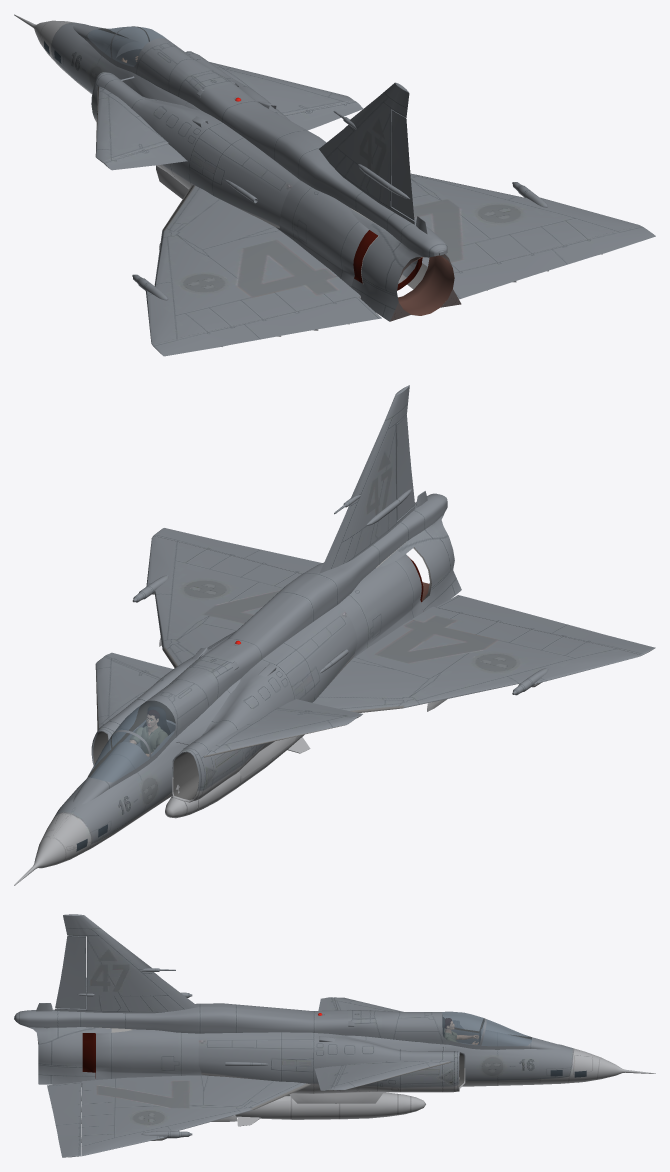
3 views of the same model, one above another, from view 1: azimuth 30°, elevation 25°; view 2: azimuth 150°, elevation 25°; view 3: azimuth 270°, elevation 25° (orthographic). The views are drawn at different scales.
Parts seen in each view (by area): view 1: Line53-FACES, Line___01-FACES (×2), Line51-FACES, Circle__06-FACES (×2), Circle___-FACES, Line36-FACES, RUL_BOL02-FACES, RUL_BOL1-FACES, Cylinder01-FACES, Line55-FACES, Line54-FACES, Cylinder02-FACES (+4 smaller); view 2: Line53-FACES, Line___01-FACES (×2), Circle__06-FACES, Circle___-FACES (×2), Line51-FACES, Line36-FACES, Object01-FACES, RUL_BOL02-FACES, Line55-FACES, Cylinder01-FACES, Line54-FACES, RUL_BOL1-FACES (+3 smaller); view 3: Line___01-FACES (×2), Circle__06-FACES (×2), Line51-FACES, Circle___-FACES, Line36-FACES, Capsule04-FACES, Cylinder01-FACES, Object01-FACES, RUL_BOL1-FACES, RUL_NAPR-FACES, Line54-FACES, Box04-FACES (+2 smaller).
Part boxes in pixels (x1=…): Line53-FACES: x1=145, y1=185, x2=360, y2=344; Line___01-FACES (×2): x1=73, y1=24, x2=447, y2=257; Line51-FACES: x1=410, y1=173, x2=640, y2=273; Circle__06-FACES (×2): x1=34, y1=20, x2=422, y2=290; Circle___-FACES: x1=91, y1=51, x2=299, y2=228; Line36-FACES: x1=319, y1=82, x2=414, y2=224; RUL_BOL02-FACES: x1=152, y1=297, x2=381, y2=356; RUL_BOL1-FACES: x1=453, y1=226, x2=655, y2=299; Cylinder01-FACES: x1=350, y1=208, x2=448, y2=321; Line55-FACES: x1=96, y1=86, x2=168, y2=162; Line54-FACES: x1=209, y1=62, x2=354, y2=115; Cylinder02-FACES: x1=361, y1=235, x2=454, y2=315; Line53-FACES: x1=312, y1=606, x2=641, y2=710; Line___01-FACES (×2): x1=73, y1=491, x2=447, y2=804; Circle__06-FACES: x1=34, y1=554, x2=423, y2=868; Circle___-FACES (×2): x1=91, y1=604, x2=357, y2=802; Line51-FACES: x1=146, y1=536, x2=301, y2=665; Line36-FACES: x1=319, y1=385, x2=415, y2=573; Object01-FACES: x1=88, y1=701, x2=175, y2=782; RUL_BOL02-FACES: x1=436, y1=595, x2=655, y2=655; Line55-FACES: x1=205, y1=708, x2=354, y2=755; Cylinder01-FACES: x1=376, y1=514, x2=461, y2=611; Line54-FACES: x1=96, y1=657, x2=159, y2=727; RUL_BOL1-FACES: x1=153, y1=528, x2=321, y2=573; Line___01-FACES (×2): x1=14, y1=1003, x2=560, y2=1049; Circle__06-FACES (×2): x1=82, y1=1029, x2=622, y2=1096; Line51-FACES: x1=81, y1=1075, x2=310, y2=1155; Circle___-FACES: x1=198, y1=1021, x2=465, y2=1093; Line36-FACES: x1=54, y1=914, x2=198, y2=1013; Capsule04-FACES: x1=235, y1=1092, x2=425, y2=1126; Cylinder01-FACES: x1=27, y1=1027, x2=111, y2=1084; Object01-FACES: x1=442, y1=1011, x2=531, y2=1045; RUL_BOL1-FACES: x1=47, y1=1082, x2=81, y2=1157; RUL_NAPR-FACES: x1=55, y1=935, x2=85, y2=1008; Line54-FACES: x1=333, y1=1059, x2=449, y2=1090; Box04-FACES: x1=289, y1=1092, x2=383, y2=1103.
Bounding box in the file's own units: 10.67 × 5.7 × 16.07.
Materials: 36 (16 with a texture image).
